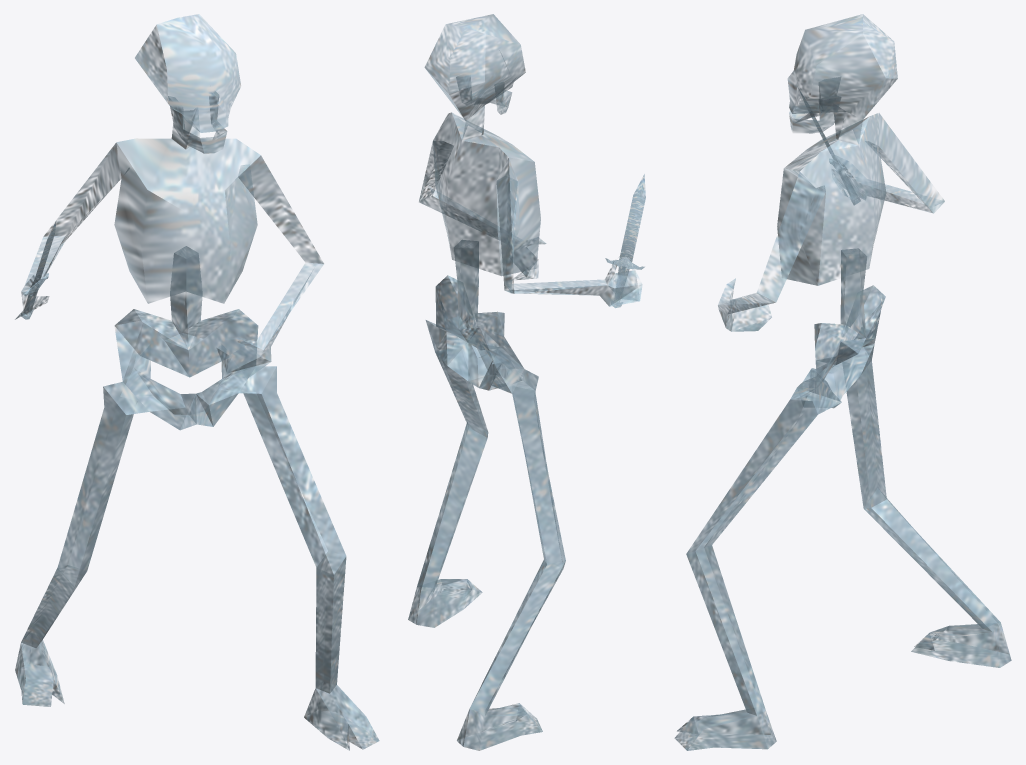
The model's file is mm9_deco_iceskeleton.glb.
The picture shows the model from 3 angles, left to right: view 1: azimuth 30°, elevation 25°; view 2: azimuth 150°, elevation 25°; view 3: azimuth 270°, elevation 25°; orthographic projection. The views are drawn at different scales.
Parts seen in each view (by area): view 1: Iceskeleton; view 2: Iceskeleton; view 3: Iceskeleton.
Boxes of the visible parts, x1=… form: Iceskeleton: x1=15, y1=14, x2=379, y2=750; Iceskeleton: x1=408, y1=14, x2=645, y2=750; Iceskeleton: x1=674, y1=14, x2=1011, y2=750.
Bounding box in the file's own units: 0.9291 × 2.13 × 0.9643.
Materials: 2 (2 with a texture image).
